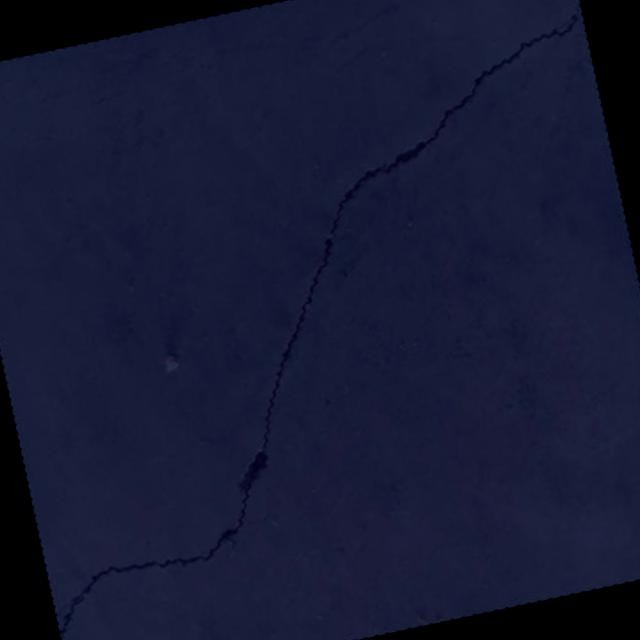crack: (0, 0, 640, 640), (572, 30, 588, 42)
